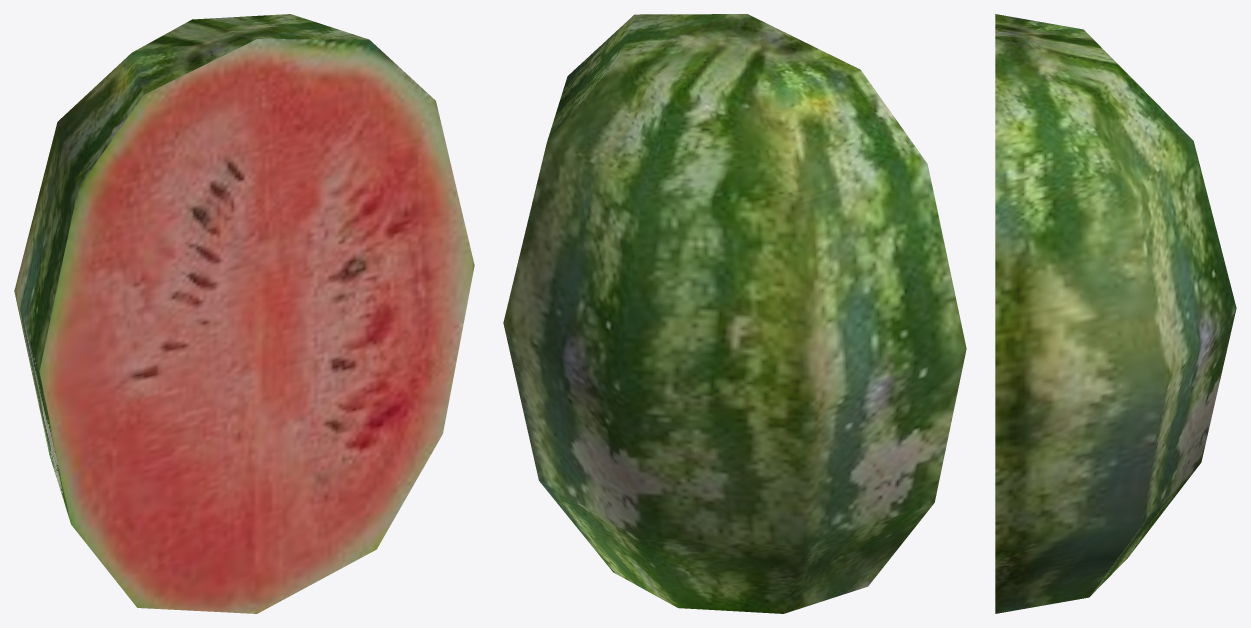
The model's file is Watermelon_01-col.glb.
3 views of the same model, side by side, from view 1: azimuth 30°, elevation 25°; view 2: azimuth 150°, elevation 25°; view 3: azimuth 270°, elevation 25° (orthographic). The views are drawn at different scales.
Parts seen in each view (by area): view 1: Watermelon_01-col; view 2: Watermelon_01-col; view 3: Watermelon_01-col.
Boxes of the visible parts, x1,y1,x2,y2 form: Watermelon_01-col: (14, 14, 474, 613); Watermelon_01-col: (503, 14, 966, 613); Watermelon_01-col: (995, 14, 1236, 613).
Size of the model in its own units: 0.3786 by 0.4779 by 0.1893.
1 material, 1 textured.
